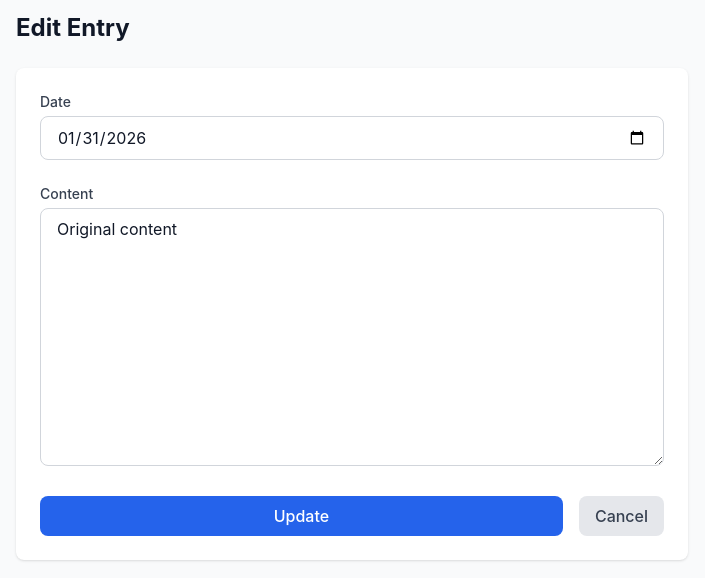
Scenario: EntryEditPage › shows error message on update failure
expect the text box labelled "Content" is shown: met, box [40,208,664,466]
Click the button "Update" at [301, 516], box [40,496,563,536]
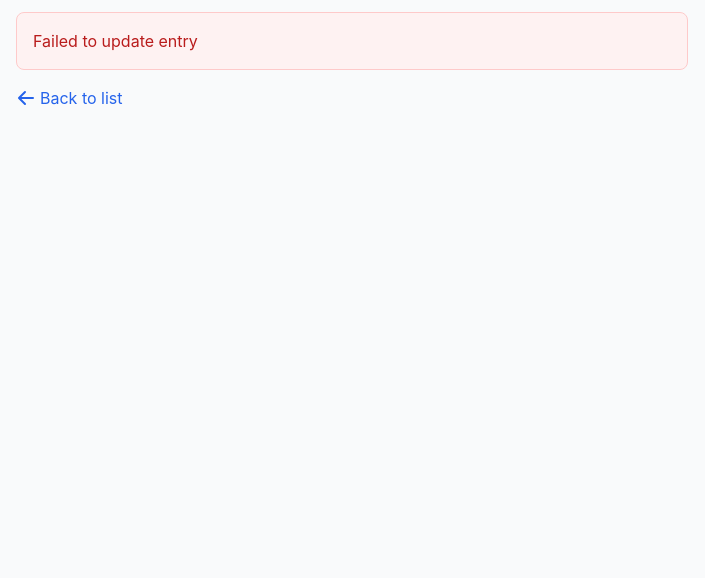
expect the text "Failed to update entry" is shown: met, box [16,12,688,70]
